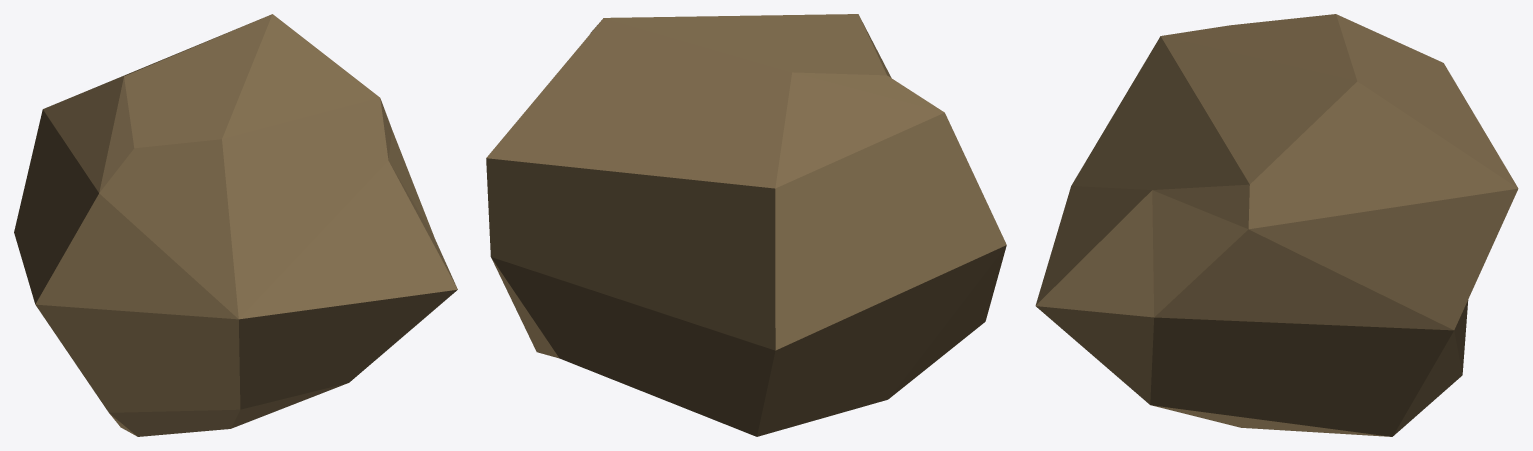
Rendered from LightRockMechMediumBoulder3.fbx.
3 renders of one model, left to right at view 1: azimuth 30°, elevation 25°; view 2: azimuth 150°, elevation 25°; view 3: azimuth 270°, elevation 25°, orthographic. The views are drawn at different scales.
Parts seen in each view (by area): view 1: LightRockMechMediumBoulder3; view 2: LightRockMechMediumBoulder3; view 3: LightRockMechMediumBoulder3.
Part boxes in pixels (x1,y1,x2,y2): LightRockMechMediumBoulder3: [14, 14, 457, 436]; LightRockMechMediumBoulder3: [486, 14, 1006, 436]; LightRockMechMediumBoulder3: [1035, 14, 1518, 436].
Size of the model in its own units: 429 by 362 by 434.
